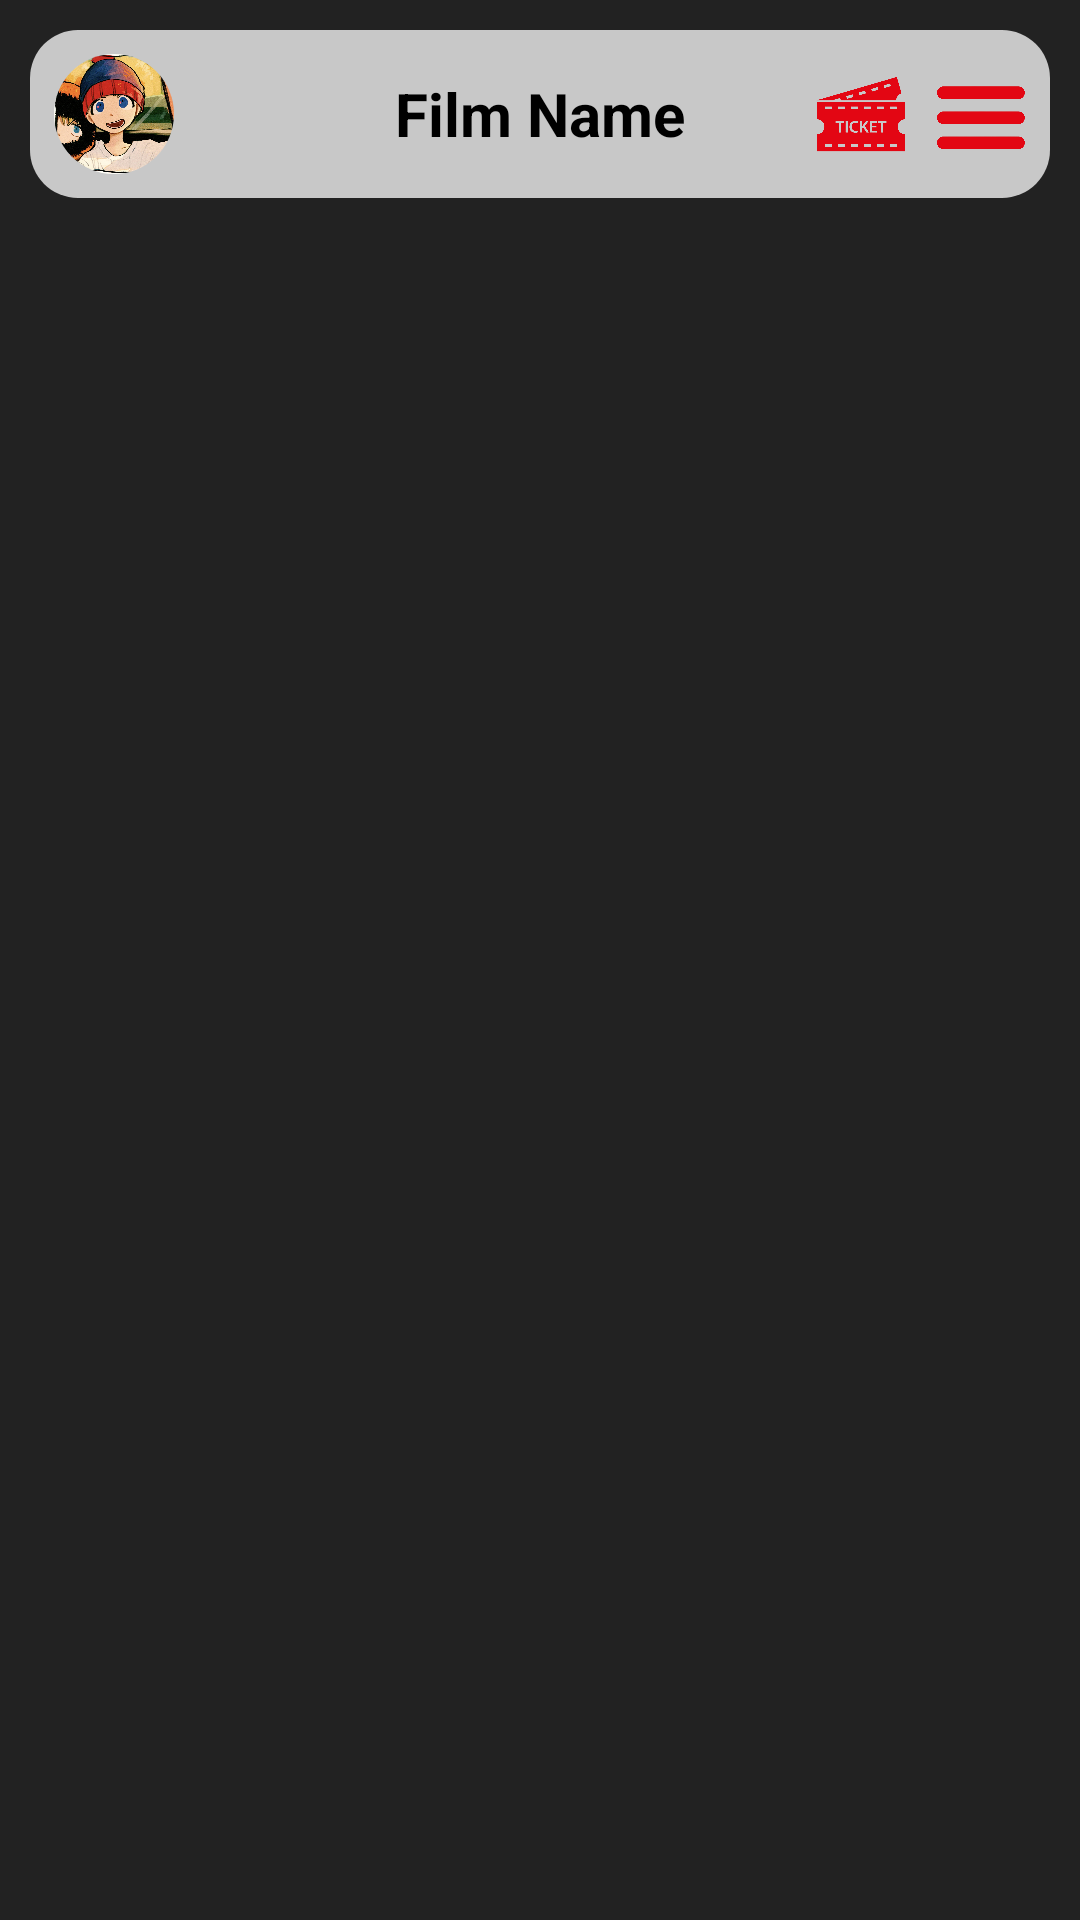

Locate icon controls on the screen. Image size 1080 x 1920, boxes as (x1, y1, x2, y2).
profile: (54, 54, 174, 174)
